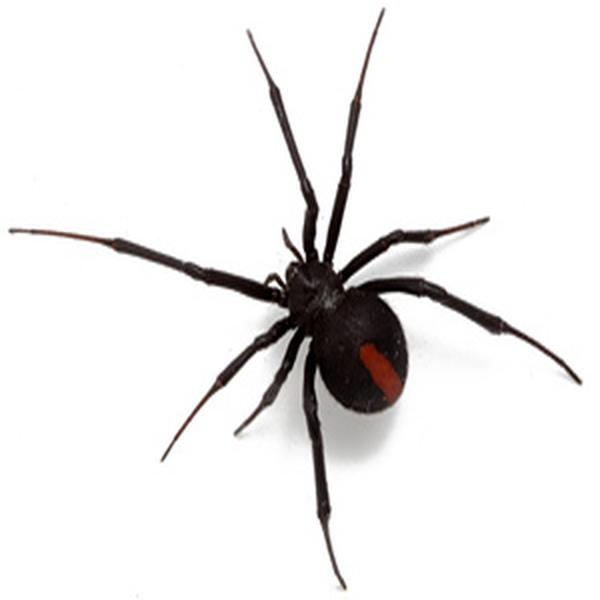Redback Spider: (16, 18, 579, 582)
